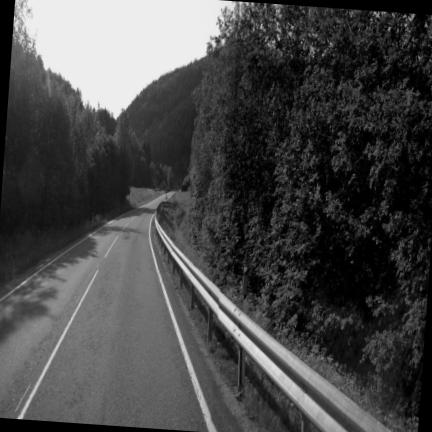Road: (0, 198, 207, 430)
